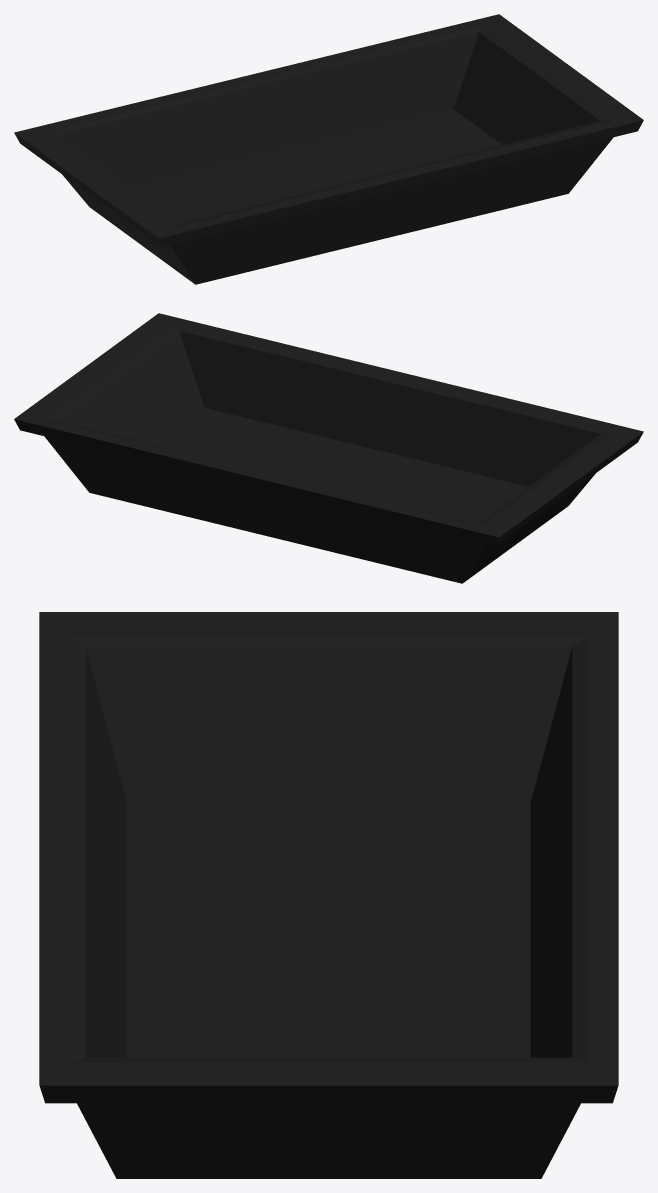
The model's file is PlasticBox.fbx.
3 views of the same model, one above another, from view 1: azimuth 30°, elevation 25°; view 2: azimuth 150°, elevation 25°; view 3: azimuth 270°, elevation 25° (orthographic). The views are drawn at different scales.
Visible parts, largest first — view 1: Cube; view 2: Cube; view 3: Cube.
Boxes of the visible parts, x1,y1,x2,y2 form: Cube: (14,14,643,284); Cube: (14,313,643,583); Cube: (39,612,618,1178).
Size of the model in its own units: 42.73 by 6.23 by 22.08.
Materials: 1 (1 with a texture image).
